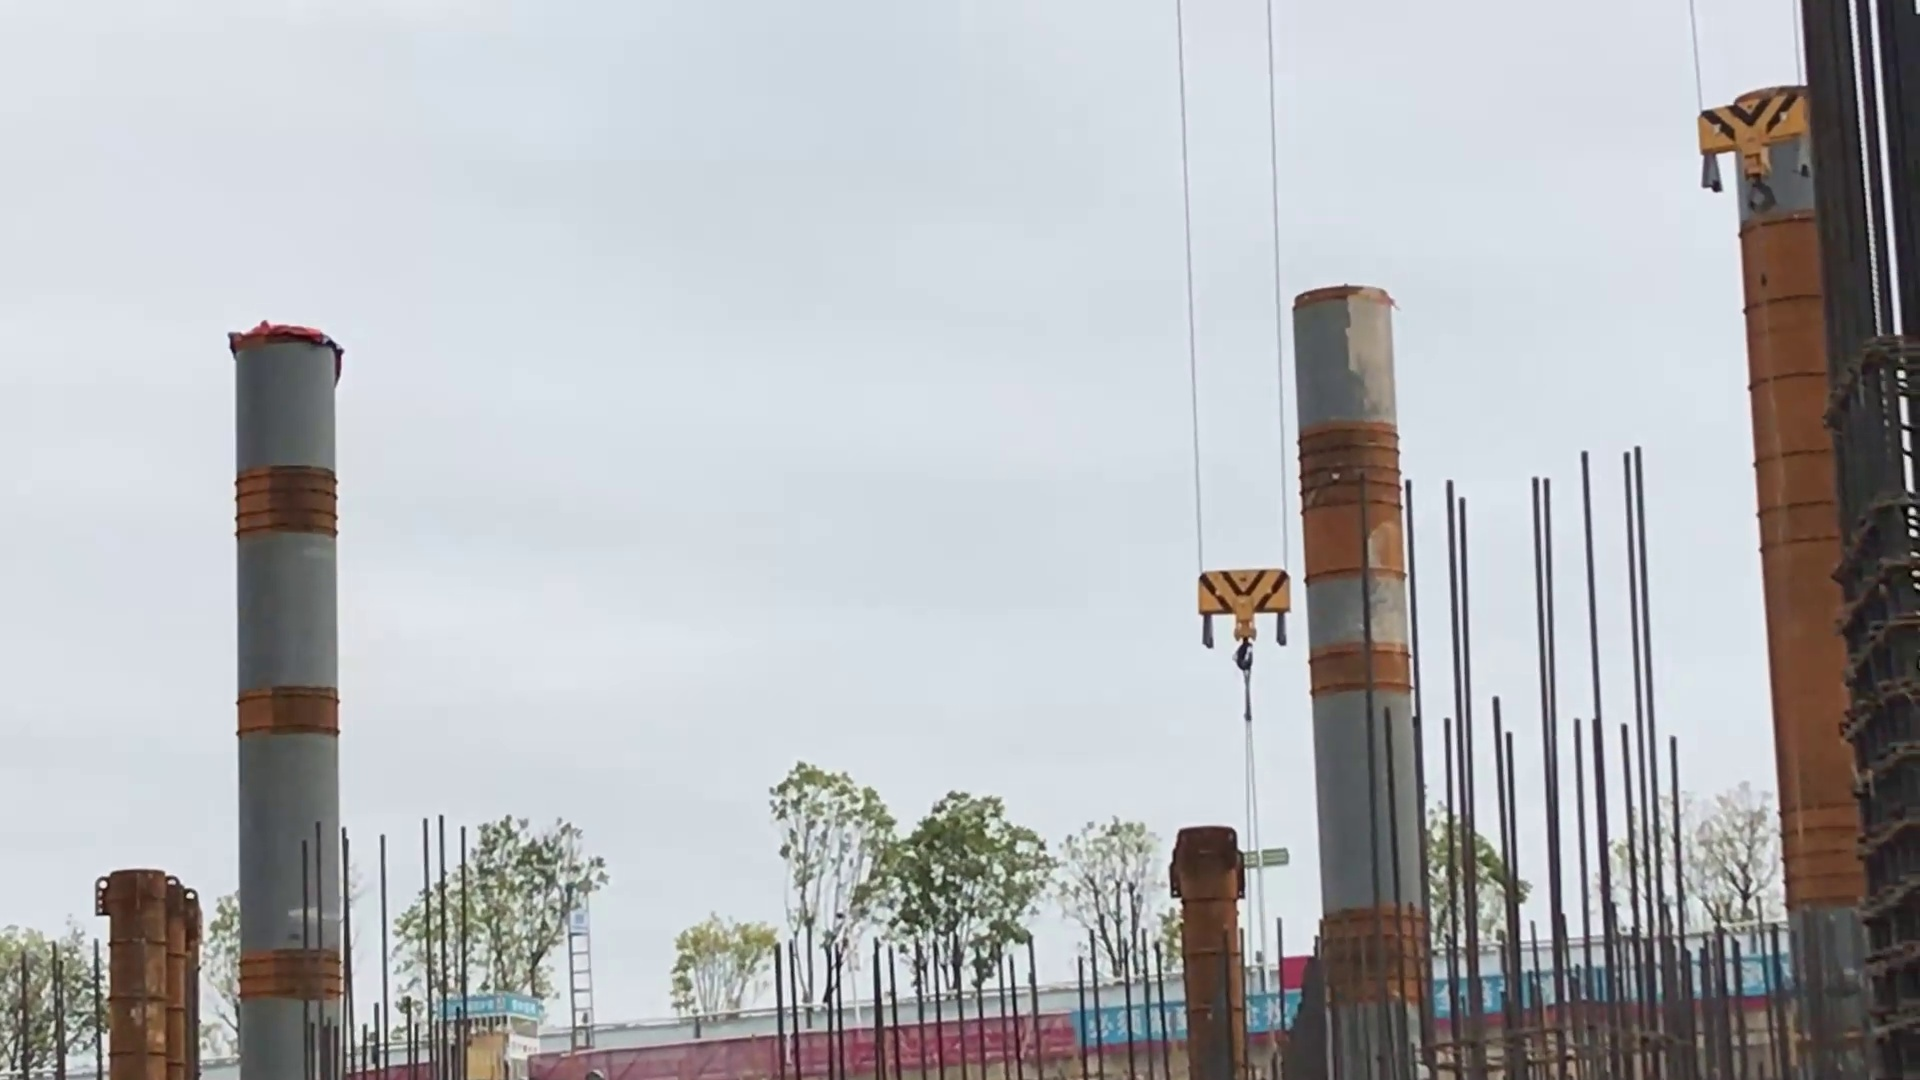fence: (491, 924, 1841, 1080)
hook: (1683, 79, 1828, 206), (1189, 555, 1303, 665)
slogan: (1075, 956, 1803, 1036)
